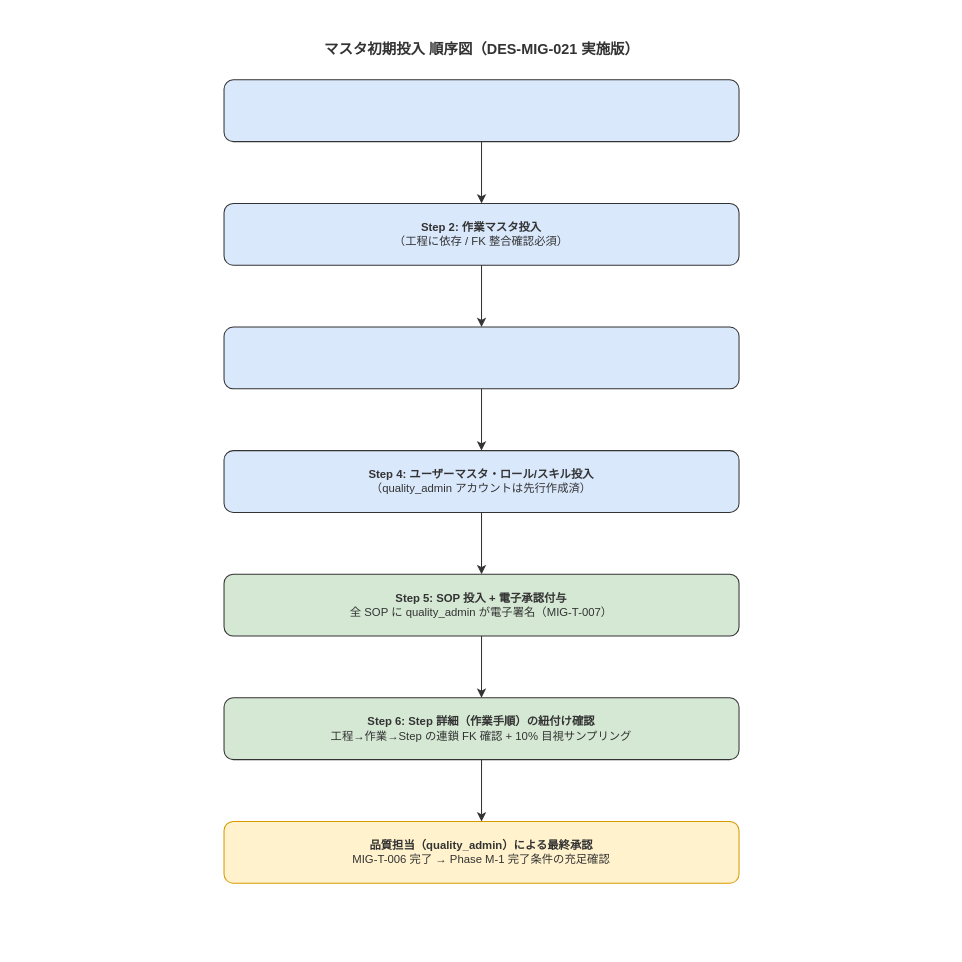
This 962x962 diagram has some shape labels left out. The shapes that lost their labels are listed below. From the top down, each one's box as (x1, y1, x2, y2) in pixels, then its label:
(223, 79, 739, 142): Step 1: 工程マスタ投入 PRE-001〜010 → インポート → POST-001〜005
(223, 326, 739, 389): Step 3: 製品マスタ投入 （工程・作業に依存）
